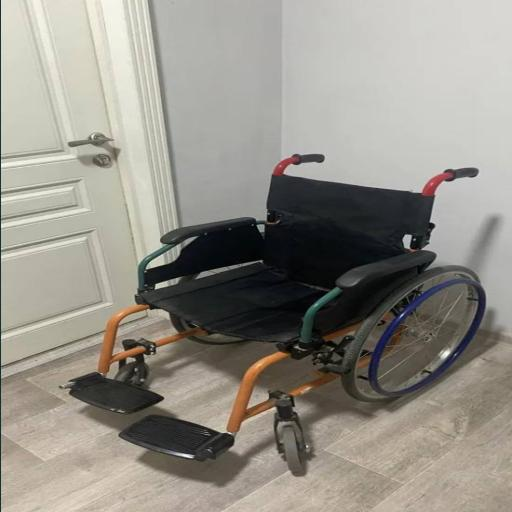child: (1, 0, 136, 364)
road: (62, 154, 485, 472)
